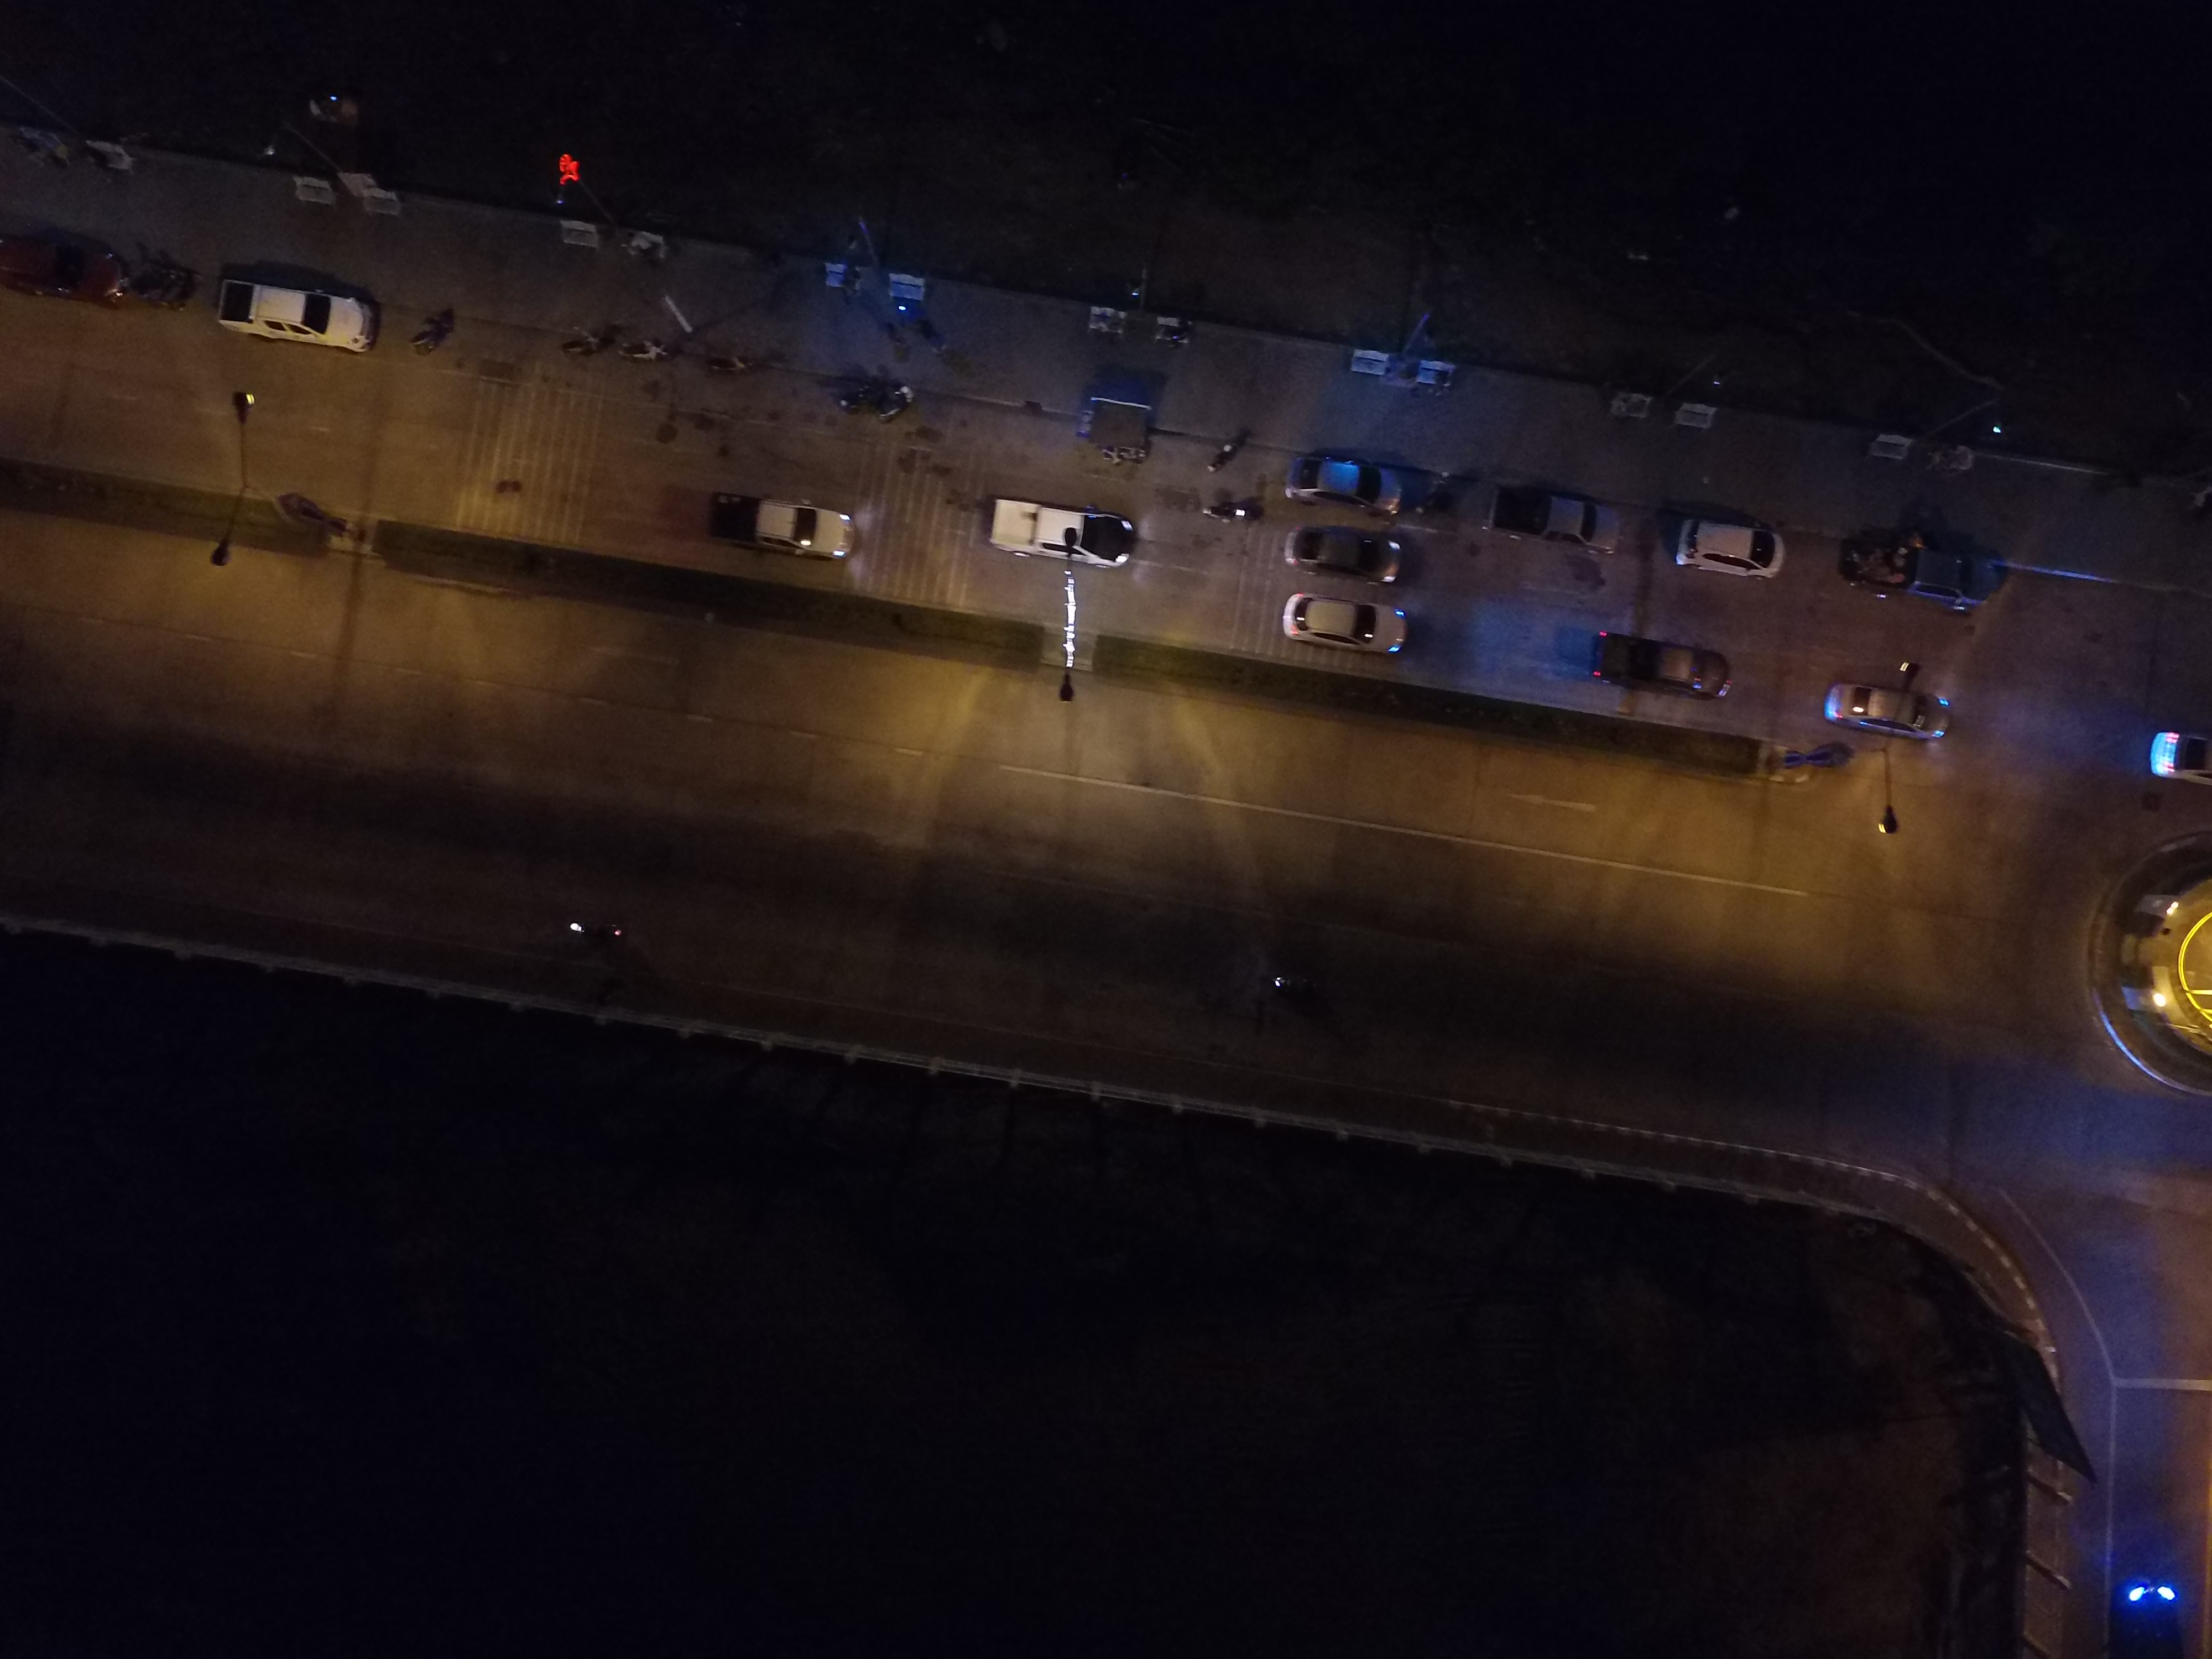car: (204, 251, 385, 366), (685, 474, 866, 589), (972, 477, 1153, 592), (1831, 523, 2001, 619), (1277, 491, 1423, 591), (1278, 430, 1423, 530), (1480, 476, 1625, 575), (1649, 502, 1794, 601), (1825, 673, 1970, 772), (1271, 580, 1416, 678), (1592, 617, 1737, 714)
